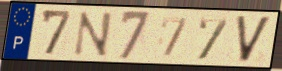7: (118, 9, 153, 62), (197, 14, 231, 62), (40, 8, 74, 56), (159, 16, 188, 57)
N: (71, 10, 115, 58)
V: (234, 14, 274, 65)
